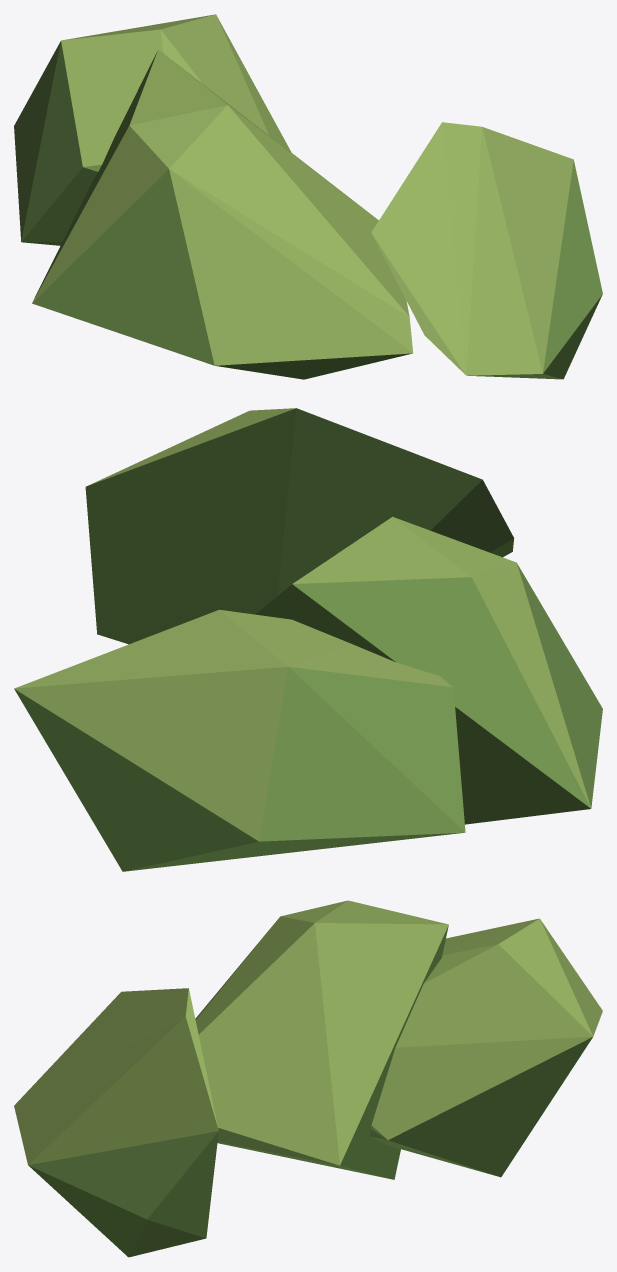
File: Bush_0.glb
The picture shows the model from 3 angles, top to bottom: view 1: azimuth 30°, elevation 25°; view 2: azimuth 150°, elevation 25°; view 3: azimuth 270°, elevation 25°; orthographic projection. The views are drawn at different scales.
Visible parts, largest first — view 1: Bush_0; view 2: Bush_0; view 3: Bush_0.
Part boxes in pixels (box(x1,y1,x2,y2)): Bush_0: box(14, 14, 602, 379); Bush_0: box(14, 408, 602, 871); Bush_0: box(14, 900, 602, 1257).
Size of the model in its own units: 0.6939 by 0.3628 by 0.8344.
